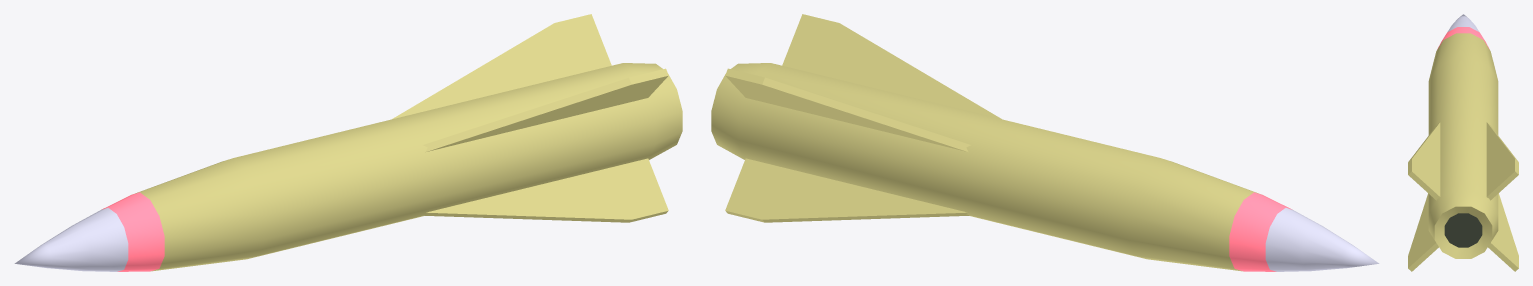
File: Missle.fbx
The picture shows the model from 3 angles, left to right: view 1: azimuth 30°, elevation 25°; view 2: azimuth 150°, elevation 25°; view 3: azimuth 270°, elevation 25°; orthographic projection. The views are drawn at different scales.
Visible parts, largest first — view 1: Plane.004; view 2: Plane.004; view 3: Plane.004.
Boxes of the visible parts, <box> form: Plane.004: <box>14,14,682,271</box>; Plane.004: <box>711,14,1379,271</box>; Plane.004: <box>1408,14,1518,271</box>.
Size of the model in its own units: 141 by 30.26 by 30.26.
